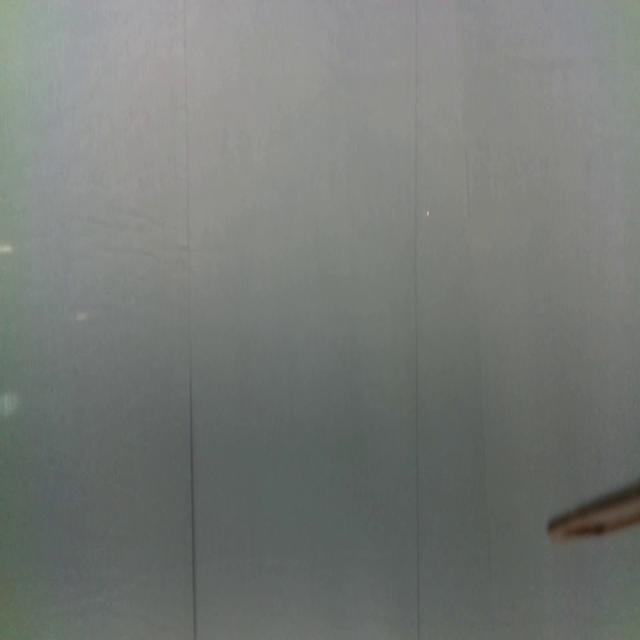crease: (182, 0, 198, 640), (412, 1, 421, 639)
